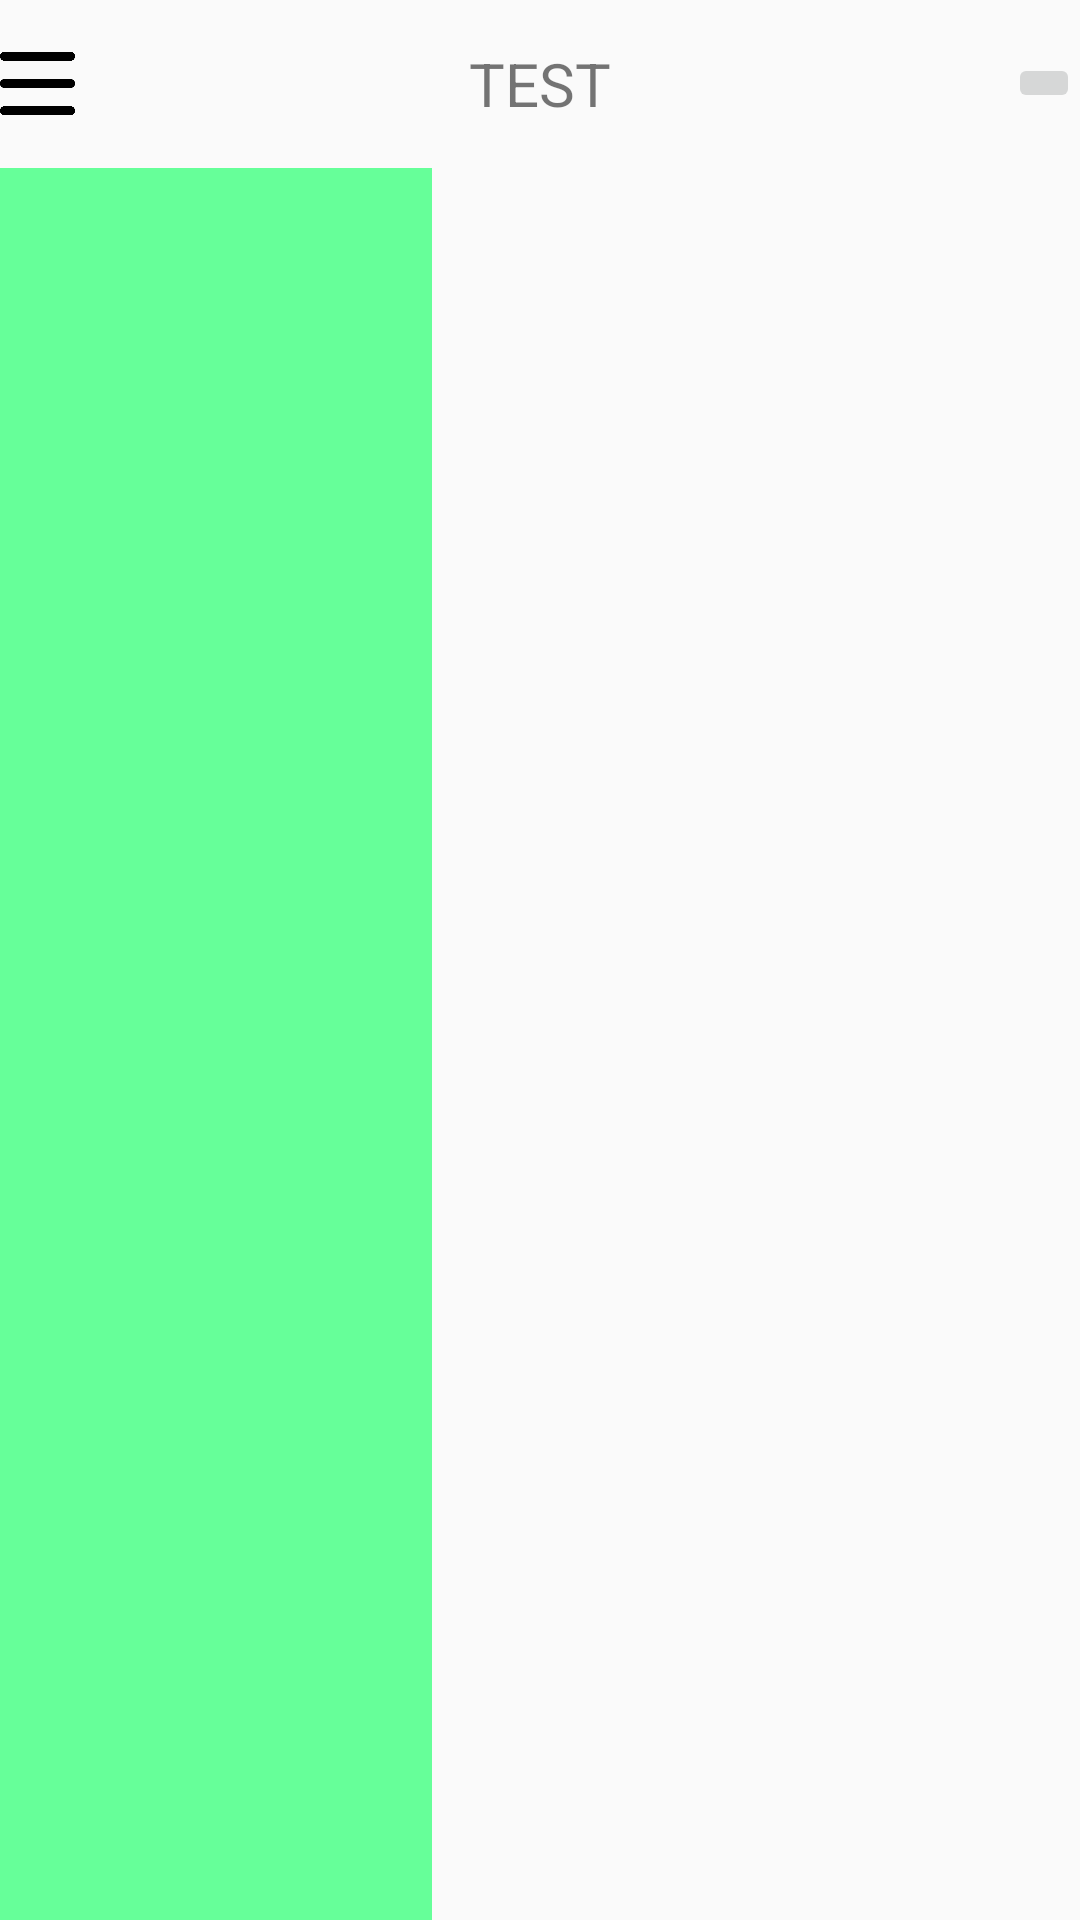

Named icons in this screenshot (1080w x 1920h) and their centers, point (x, y):
three lines: point (37, 83)
